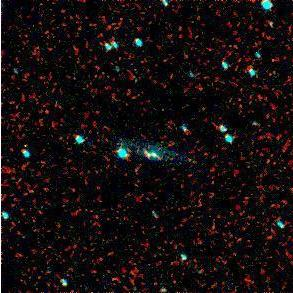star: (132, 141, 162, 171)
